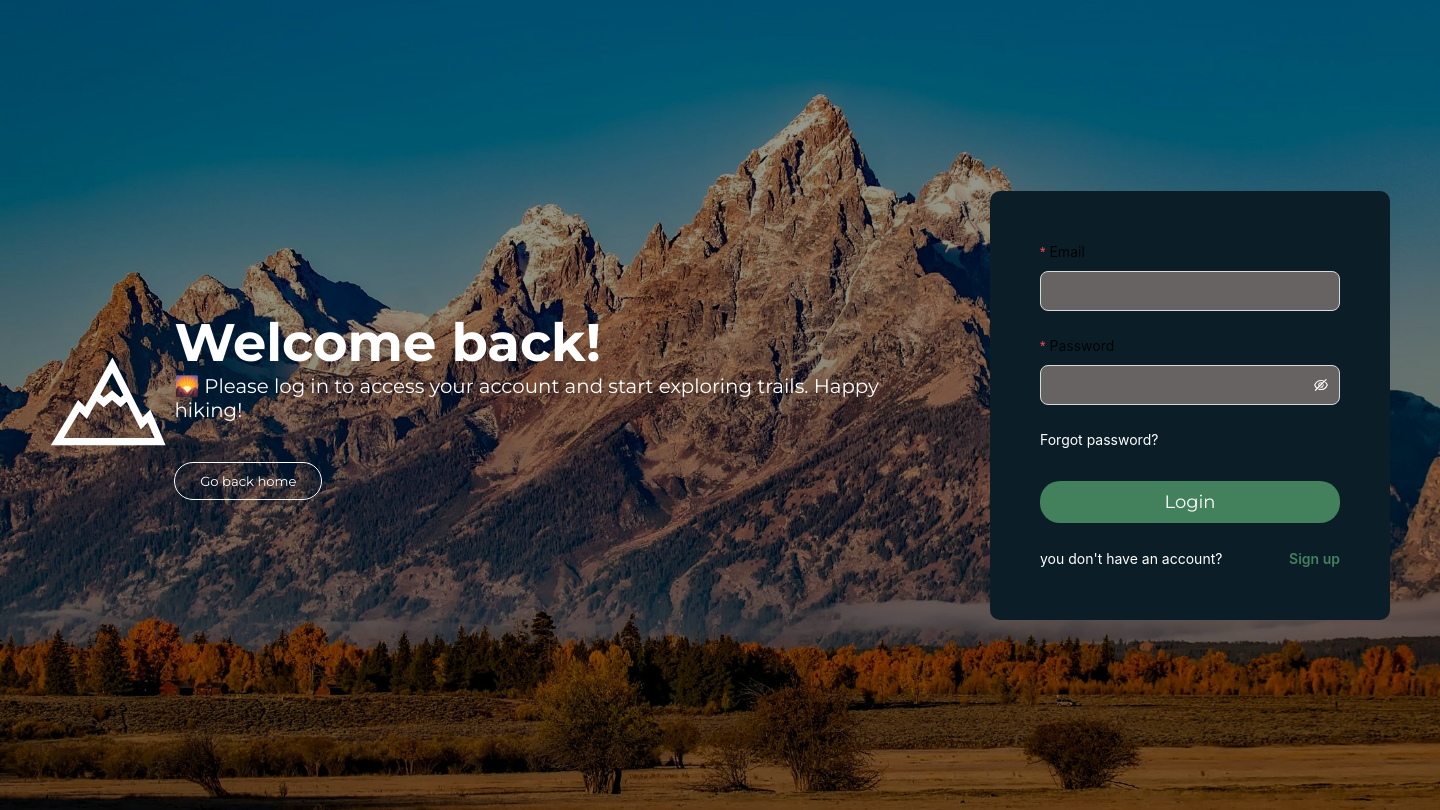
Login Page › shows error if fields are empty on submit
Click the button "Login" at (1190, 502), box [1040,480,1340,522]
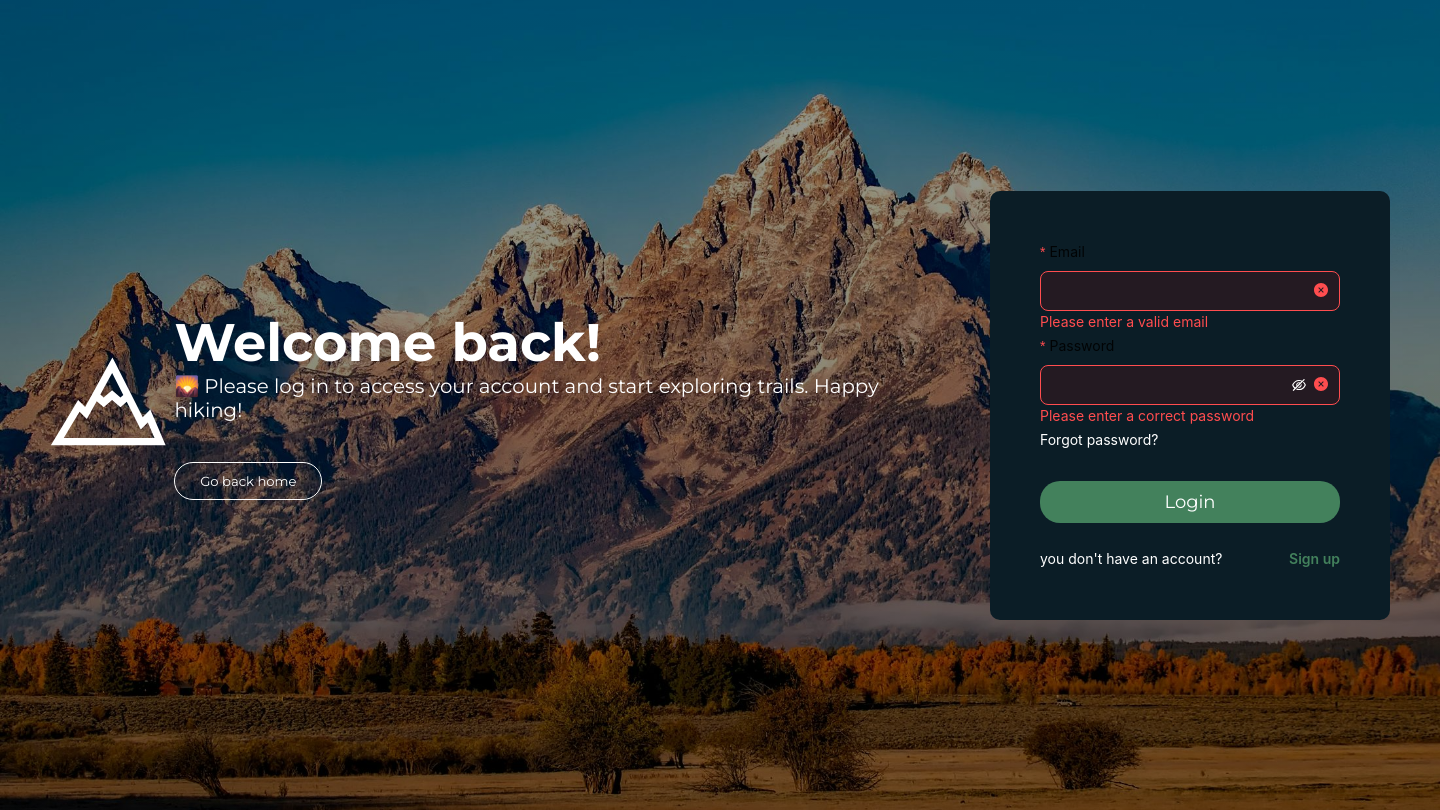
Expected: the text "Please enter a valid email" is shown, [1040,312,1208,330]
